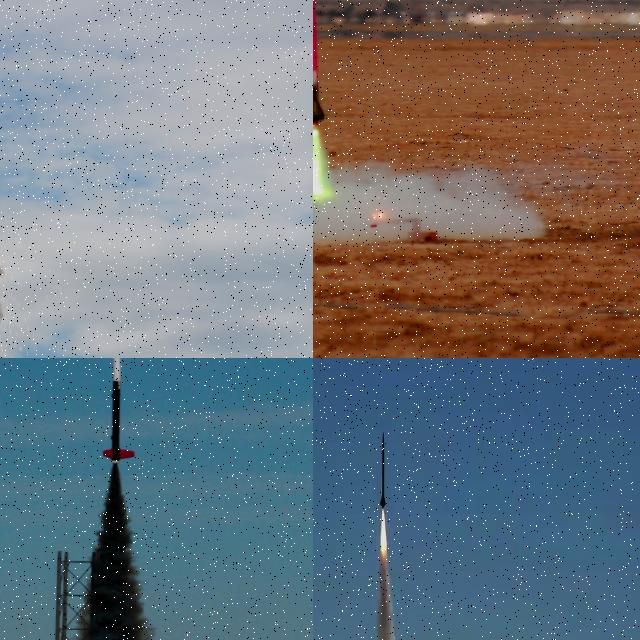Rocket: (101, 358, 136, 464), (313, 0, 327, 125), (379, 430, 387, 510)
